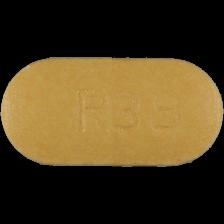13668-039: (0, 0, 224, 224)
